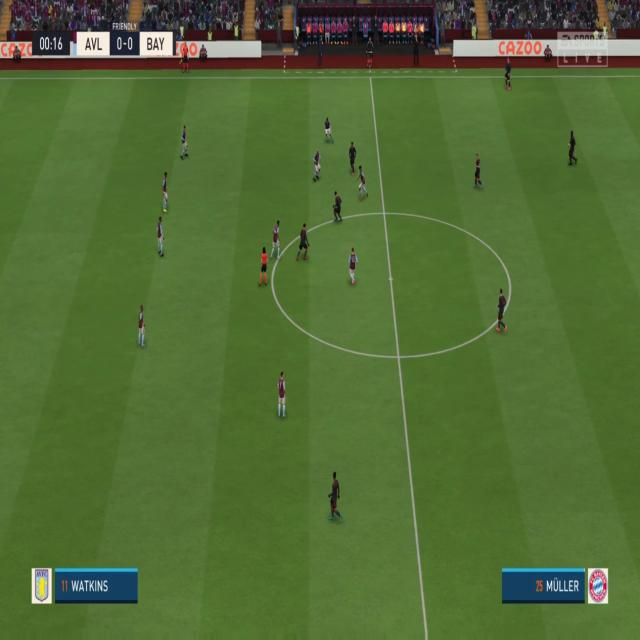Ball: (334, 215, 338, 222)
Referee: (257, 249, 269, 288)
Team-A: (497, 291, 511, 333), (330, 473, 342, 522), (297, 224, 311, 262), (333, 192, 344, 224), (568, 130, 578, 164), (474, 156, 484, 188), (504, 59, 514, 89), (347, 142, 356, 175)
Team-H: (277, 373, 288, 420), (138, 304, 148, 348), (156, 216, 166, 258), (347, 249, 357, 285), (322, 118, 334, 147), (180, 125, 190, 159), (311, 149, 321, 183), (161, 175, 170, 212), (359, 168, 369, 200), (272, 222, 281, 254)
